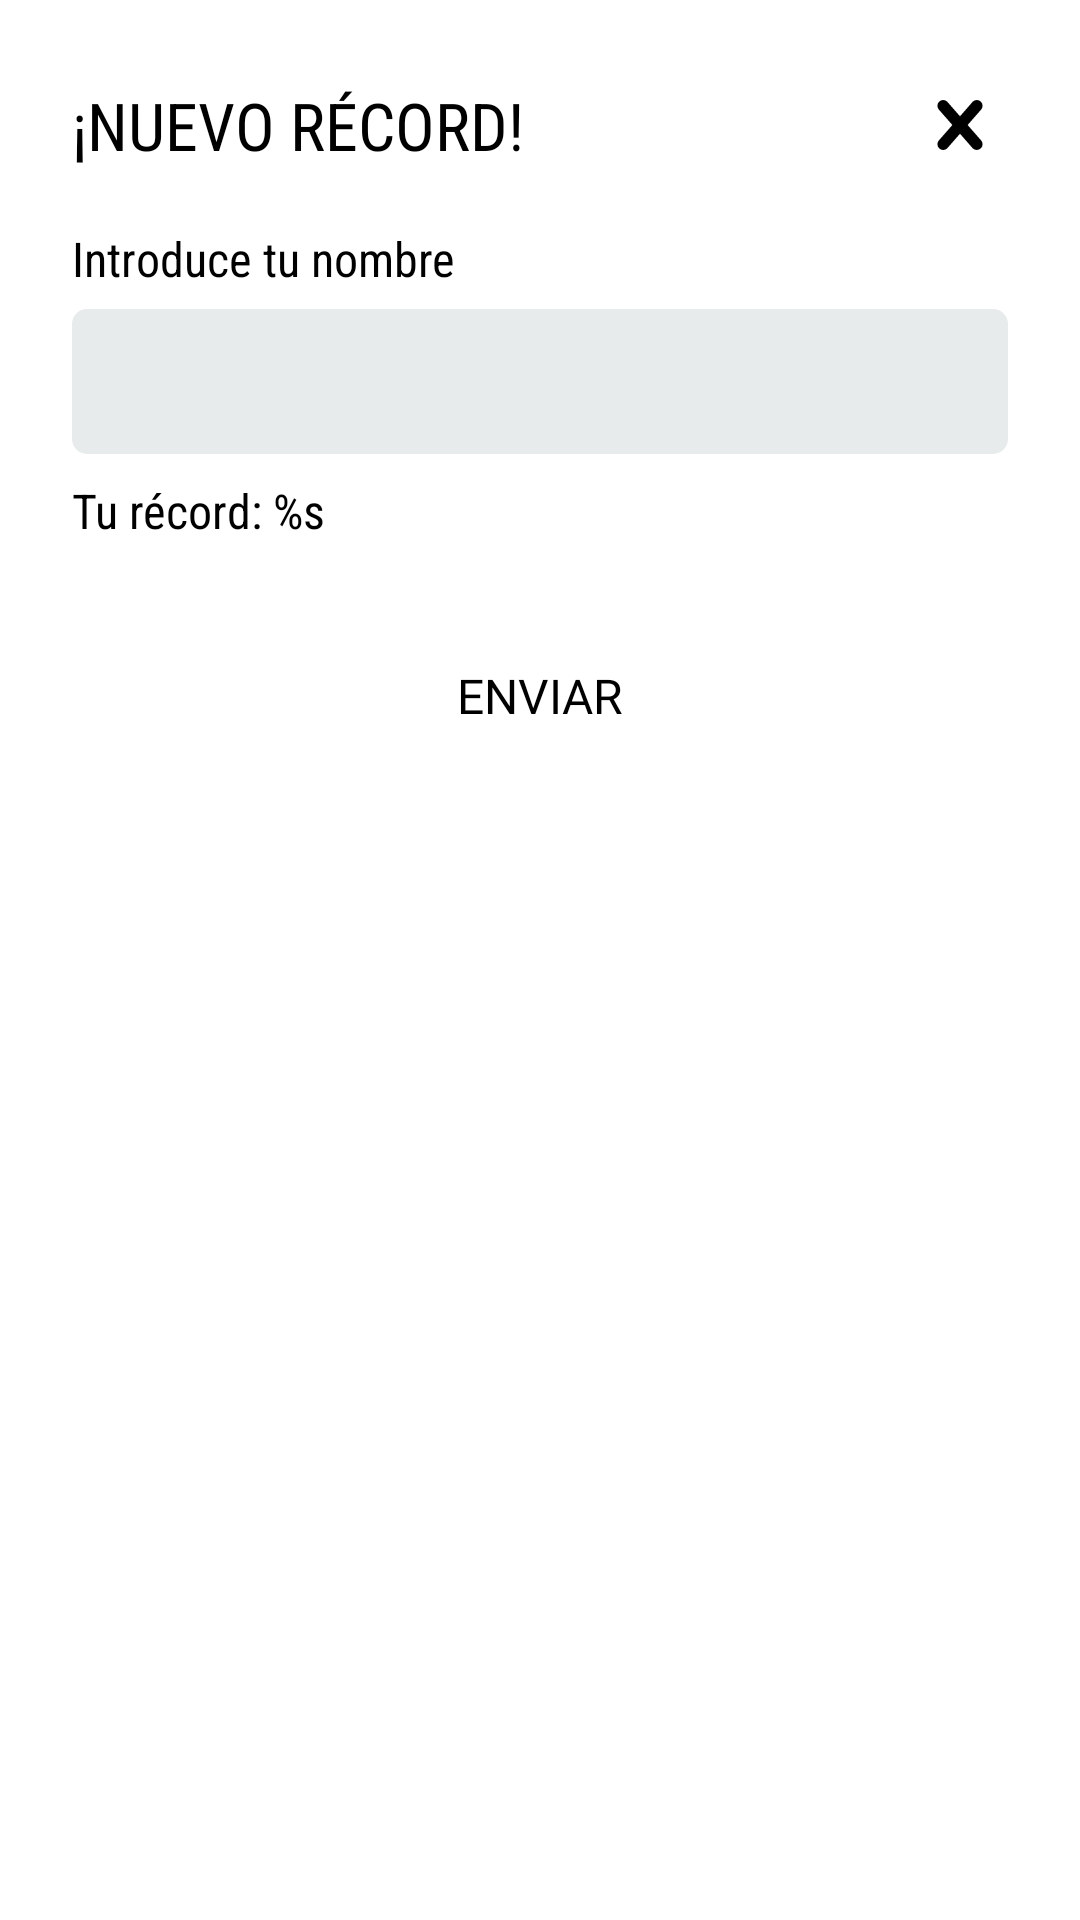

Screen size 1080px x 1920px. Icon name, then its center in pixels as (x,y):
cross: (960,125)
